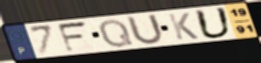7: (29, 23, 55, 57)
F: (56, 20, 90, 54)
K: (166, 12, 201, 41)
Q: (98, 18, 136, 49)
U: (193, 6, 234, 40), (125, 13, 166, 46)
